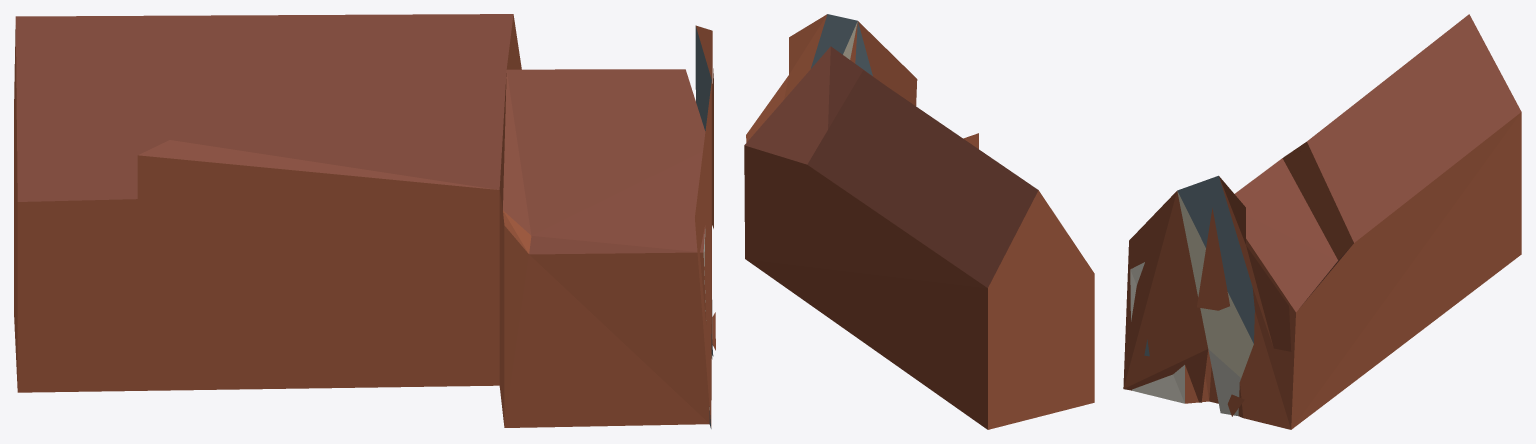
The model's file is christ-church-groenburgwal.lod2.glb.
The picture shows the model from 3 angles, left to right: view 1: azimuth 30°, elevation 25°; view 2: azimuth 150°, elevation 25°; view 3: azimuth 270°, elevation 25°; orthographic projection. The views are drawn at different scales.
Visible parts, largest first — view 1: lod2; view 2: lod2; view 3: lod2.
Boxes of the visible parts, x1,y1,x2,y2 form: lod2: (14, 14, 715, 428); lod2: (744, 14, 1094, 429); lod2: (1123, 14, 1521, 429).
Bounding box in the file's own units: 27.48 × 14.75 × 22.99.
